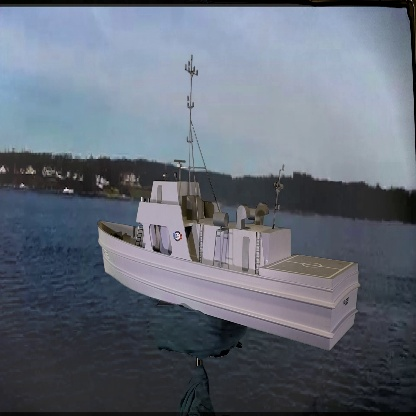YP689: (97, 53, 360, 352)
